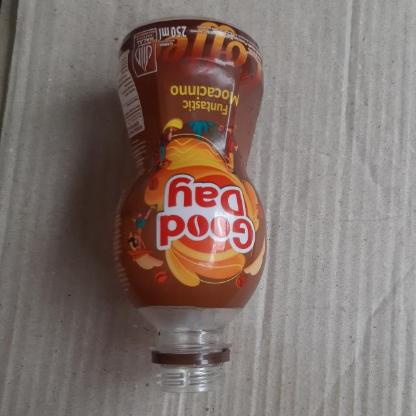Plastic Bottle: (115, 14, 270, 393)
